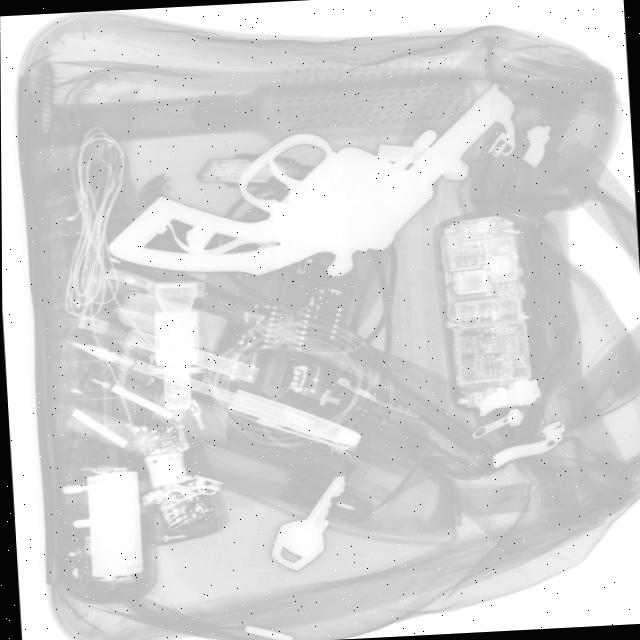pistol: (105, 86, 522, 287)
